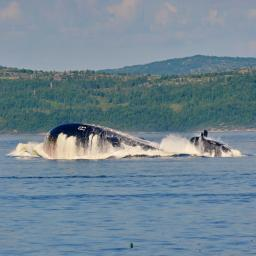submarine: (30, 122, 246, 166)
